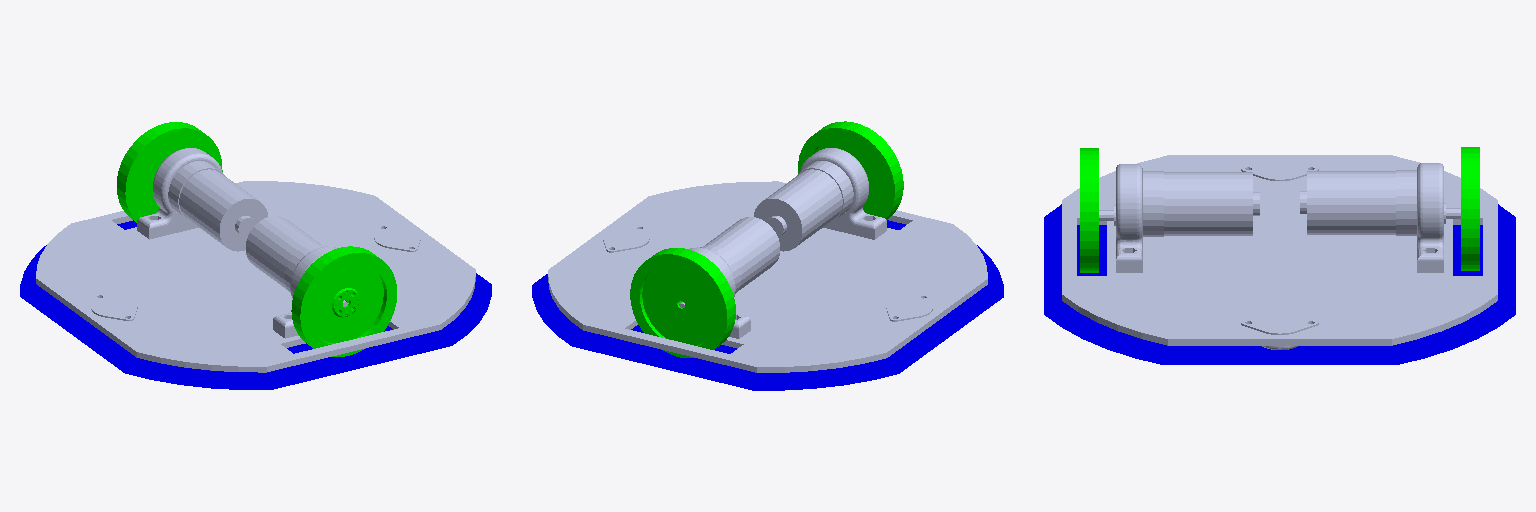
robot.urdf — dolly_description:
<robot name="dolly_description">
  <link name="base_footprint">
    <visual>
      <origin xyz="0 0 0" rpy="0 0 0" />
      <geometry>
        <mesh filename="package://dolly_description/meshes/base_footprint.STL" />
      </geometry>
      <material name="">
        <color rgba="0 0 1 1" />
      </material>
    </visual>
    <collision>
      <origin xyz="0 0 0" rpy="0 0 0" />
      <geometry>
        <mesh filename="package://dolly_description/meshes/base_footprint.STL" />
      </geometry>
    </collision>
  </link>
  <link name="base_link">
    <inertial>
      <origin xyz="-0.00036303 -0.0064784 0.029771" rpy="0 0 0" />
      <mass value="3.2695" />
      <inertia ixx="0.0070458" ixy="3.5192E-06" ixz="-8.7066E-07" iyy="0.0077407" iyz="-1.1699E-06" izz="0.01347" />
    </inertial>
    <visual>
      <origin xyz="0 0 0" rpy="0 0 0" />
      <geometry>
        <mesh filename="package://dolly_description/meshes/base_link.STL" />
      </geometry>
      <material name="">
        <color rgba="0.79216 0.81961 0.93333 1" />
      </material>
    </visual>
    <collision>
      <origin xyz="0 0 0" rpy="0 0 0" />
      <geometry>
        <mesh filename="package://dolly_description/meshes/base_link.STL" />
      </geometry>
    </collision>
  </link>
  <joint name="base_link_to_footprint" type="fixed">
    <origin xyz="0 0 0.00751182436050394" rpy="0 0 0" />
    <parent link="base_footprint" />
    <child link="base_link" />
    <axis xyz="0 0 0" />
  </joint>
  <link name="left_wheel">
    <inertial>
      <origin xyz="4.3368E-19 -2.403E-05 3.4694E-18" rpy="0 0 0" />
      <mass value="0.18489" />
      <inertia ixx="7.4493E-05" ixy="7.0054E-22" ixz="-4.5267E-21" iyy="0.00014628" iyz="-8.4037E-22" izz="7.4493E-05" />
    </inertial>
    <visual>
      <origin xyz="0 0 0" rpy="0 0 0" />
      <geometry>
        <mesh filename="package://dolly_description/meshes/left_wheel.STL" />
      </geometry>
      <material name="">
        <color rgba="0 1 0 1" />
      </material>
    </visual>
    <collision>
      <origin xyz="0 0 0" rpy="0 0 0" />
      <geometry>
        <mesh filename="package://dolly_description/meshes/left_wheel.STL" />
      </geometry>
    </collision>
  </link>
  <joint name="left_wheel_to_base" type="continuous">
    <origin xyz="-0.000568807268987122 0.1068 0.0274882756394961" rpy="0 0 0" />
    <parent link="base_link" />
    <child link="left_wheel" />
    <axis xyz="0 -1 0" />
  </joint>
  <link name="right_wheel">
    <inertial>
      <origin xyz="-4.3368E-19 -2.403E-05 -3.4694E-18" rpy="0 0 0" />
      <mass value="0.18489" />
      <inertia ixx="7.4493E-05" ixy="-1.3204E-21" ixz="-3.9575E-21" iyy="0.00014628" iyz="8.3738E-22" izz="7.4493E-05" />
    </inertial>
    <visual>
      <origin xyz="0 0 0" rpy="0 0 0" />
      <geometry>
        <mesh filename="package://dolly_description/meshes/right_wheel.STL" />
      </geometry>
      <material name="">
        <color rgba="0 1 0 1" />
      </material>
    </visual>
    <collision>
      <origin xyz="0 0 0" rpy="0 0 0" />
      <geometry>
        <mesh filename="package://dolly_description/meshes/right_wheel.STL" />
      </geometry>
    </collision>
  </link>
  <joint name="right_wheel_to_base" type="continuous">
    <origin xyz="0.00202133439372744 -0.1068 0.0274882756394961" rpy="3.14159265358979 0 0" />
    <parent link="base_link" />
    <child link="right_wheel" />
    <axis xyz="0 -1 0" />
  </joint>
  <link name="front_caster">
    <inertial>
      <origin xyz="0.204 -1.7008E-18 0" rpy="0 0 0" />
      <mass value="0.00090478" />
      <inertia ixx="1.3029E-08" ixy="-1.4061E-25" ixz="6.3367E-25" iyy="1.3029E-08" iyz="-6.302E-26" izz="1.3029E-08" />
    </inertial>
    <visual>
      <origin xyz="0 0 0" rpy="0 0 0" />
      <geometry>
        <mesh filename="package://dolly_description/meshes/front_caster.STL" />
      </geometry>
      <material name="">
        <color rgba="0.79216 0.81961 0.93333 1" />
      </material>
    </visual>
    <collision>
      <origin xyz="0 0 0" rpy="0 0 0" />
      <geometry>
        <mesh filename="package://dolly_description/meshes/front_caster.STL" />
      </geometry>
    </collision>
  </link>
  <joint name="front_caster_to_base" type="fixed">
    <origin xyz="-0.102 0 -0.004" rpy="0 0 0" />
    <parent link="base_link" />
    <child link="front_caster" />
    <axis xyz="0 0 0" />
  </joint>
  <link name="back_caster">
    <inertial>
      <origin xyz="1.3878E-17 3.3881E-20 8.6736E-19" rpy="0 0 0" />
      <mass value="0.00090478" />
      <inertia ixx="1.3029E-08" ixy="-1.4061E-25" ixz="1.1034E-24" iyy="1.3029E-08" iyz="-1.8513E-25" izz="1.3029E-08" />
    </inertial>
    <visual>
      <origin xyz="0 0 0" rpy="0 0 0" />
      <geometry>
        <mesh filename="package://dolly_description/meshes/back_caster.STL" />
      </geometry>
      <material name="">
        <color rgba="0.79216 0.81961 0.93333 1" />
      </material>
    </visual>
    <collision>
      <origin xyz="0 0 0" rpy="0 0 0" />
      <geometry>
        <mesh filename="package://dolly_description/meshes/back_caster.STL" />
      </geometry>
    </collision>
  </link>
  <joint name="back_caster_to_base" type="fixed">
    <origin xyz="-0.102 0 -0.004" rpy="0 0 0" />
    <parent link="base_link" />
    <child link="back_caster" />
    <axis xyz="0 0 0" />
  </joint>
</robot>

--- Render facts (derived) ---
3 views of the same robot in one strip: view 1: azimuth 30°, elevation 25°; view 2: azimuth 150°, elevation 25°; view 3: azimuth 270°, elevation 25° (orthographic).
Model dolly_description with 6 links and 5 joints (2 continuous, 3 fixed), rooted at base_footprint, posed all joints at 0.
Visible links, largest first — view 1: base_link, base_footprint, right_wheel, left_wheel; view 2: base_link, base_footprint, left_wheel, right_wheel; view 3: base_link, base_footprint, right_wheel, left_wheel.
Link boxes in pixels (x1=…): base_link: x1=36, y1=148, x2=475, y2=372; base_footprint: x1=20, y1=220, x2=491, y2=389; right_wheel: x1=291, y1=246, x2=396, y2=356; left_wheel: x1=117, y1=122, x2=222, y2=222; base_link: x1=548, y1=148, x2=987, y2=372; base_footprint: x1=532, y1=220, x2=1003, y2=390; left_wheel: x1=630, y1=248, x2=735, y2=357; right_wheel: x1=798, y1=121, x2=903, y2=219; base_link: x1=1062, y1=155, x2=1497, y2=349; base_footprint: x1=1044, y1=204, x2=1515, y2=364; right_wheel: x1=1080, y1=148, x2=1098, y2=272; left_wheel: x1=1461, y1=147, x2=1479, y2=270.
Bounding box of the posed robot: 0.264 × 0.264 × 0.0725 m (x, y, z).
Meshes: 6 distinct files referenced, 6 mesh visuals loaded (6 binary STL).
